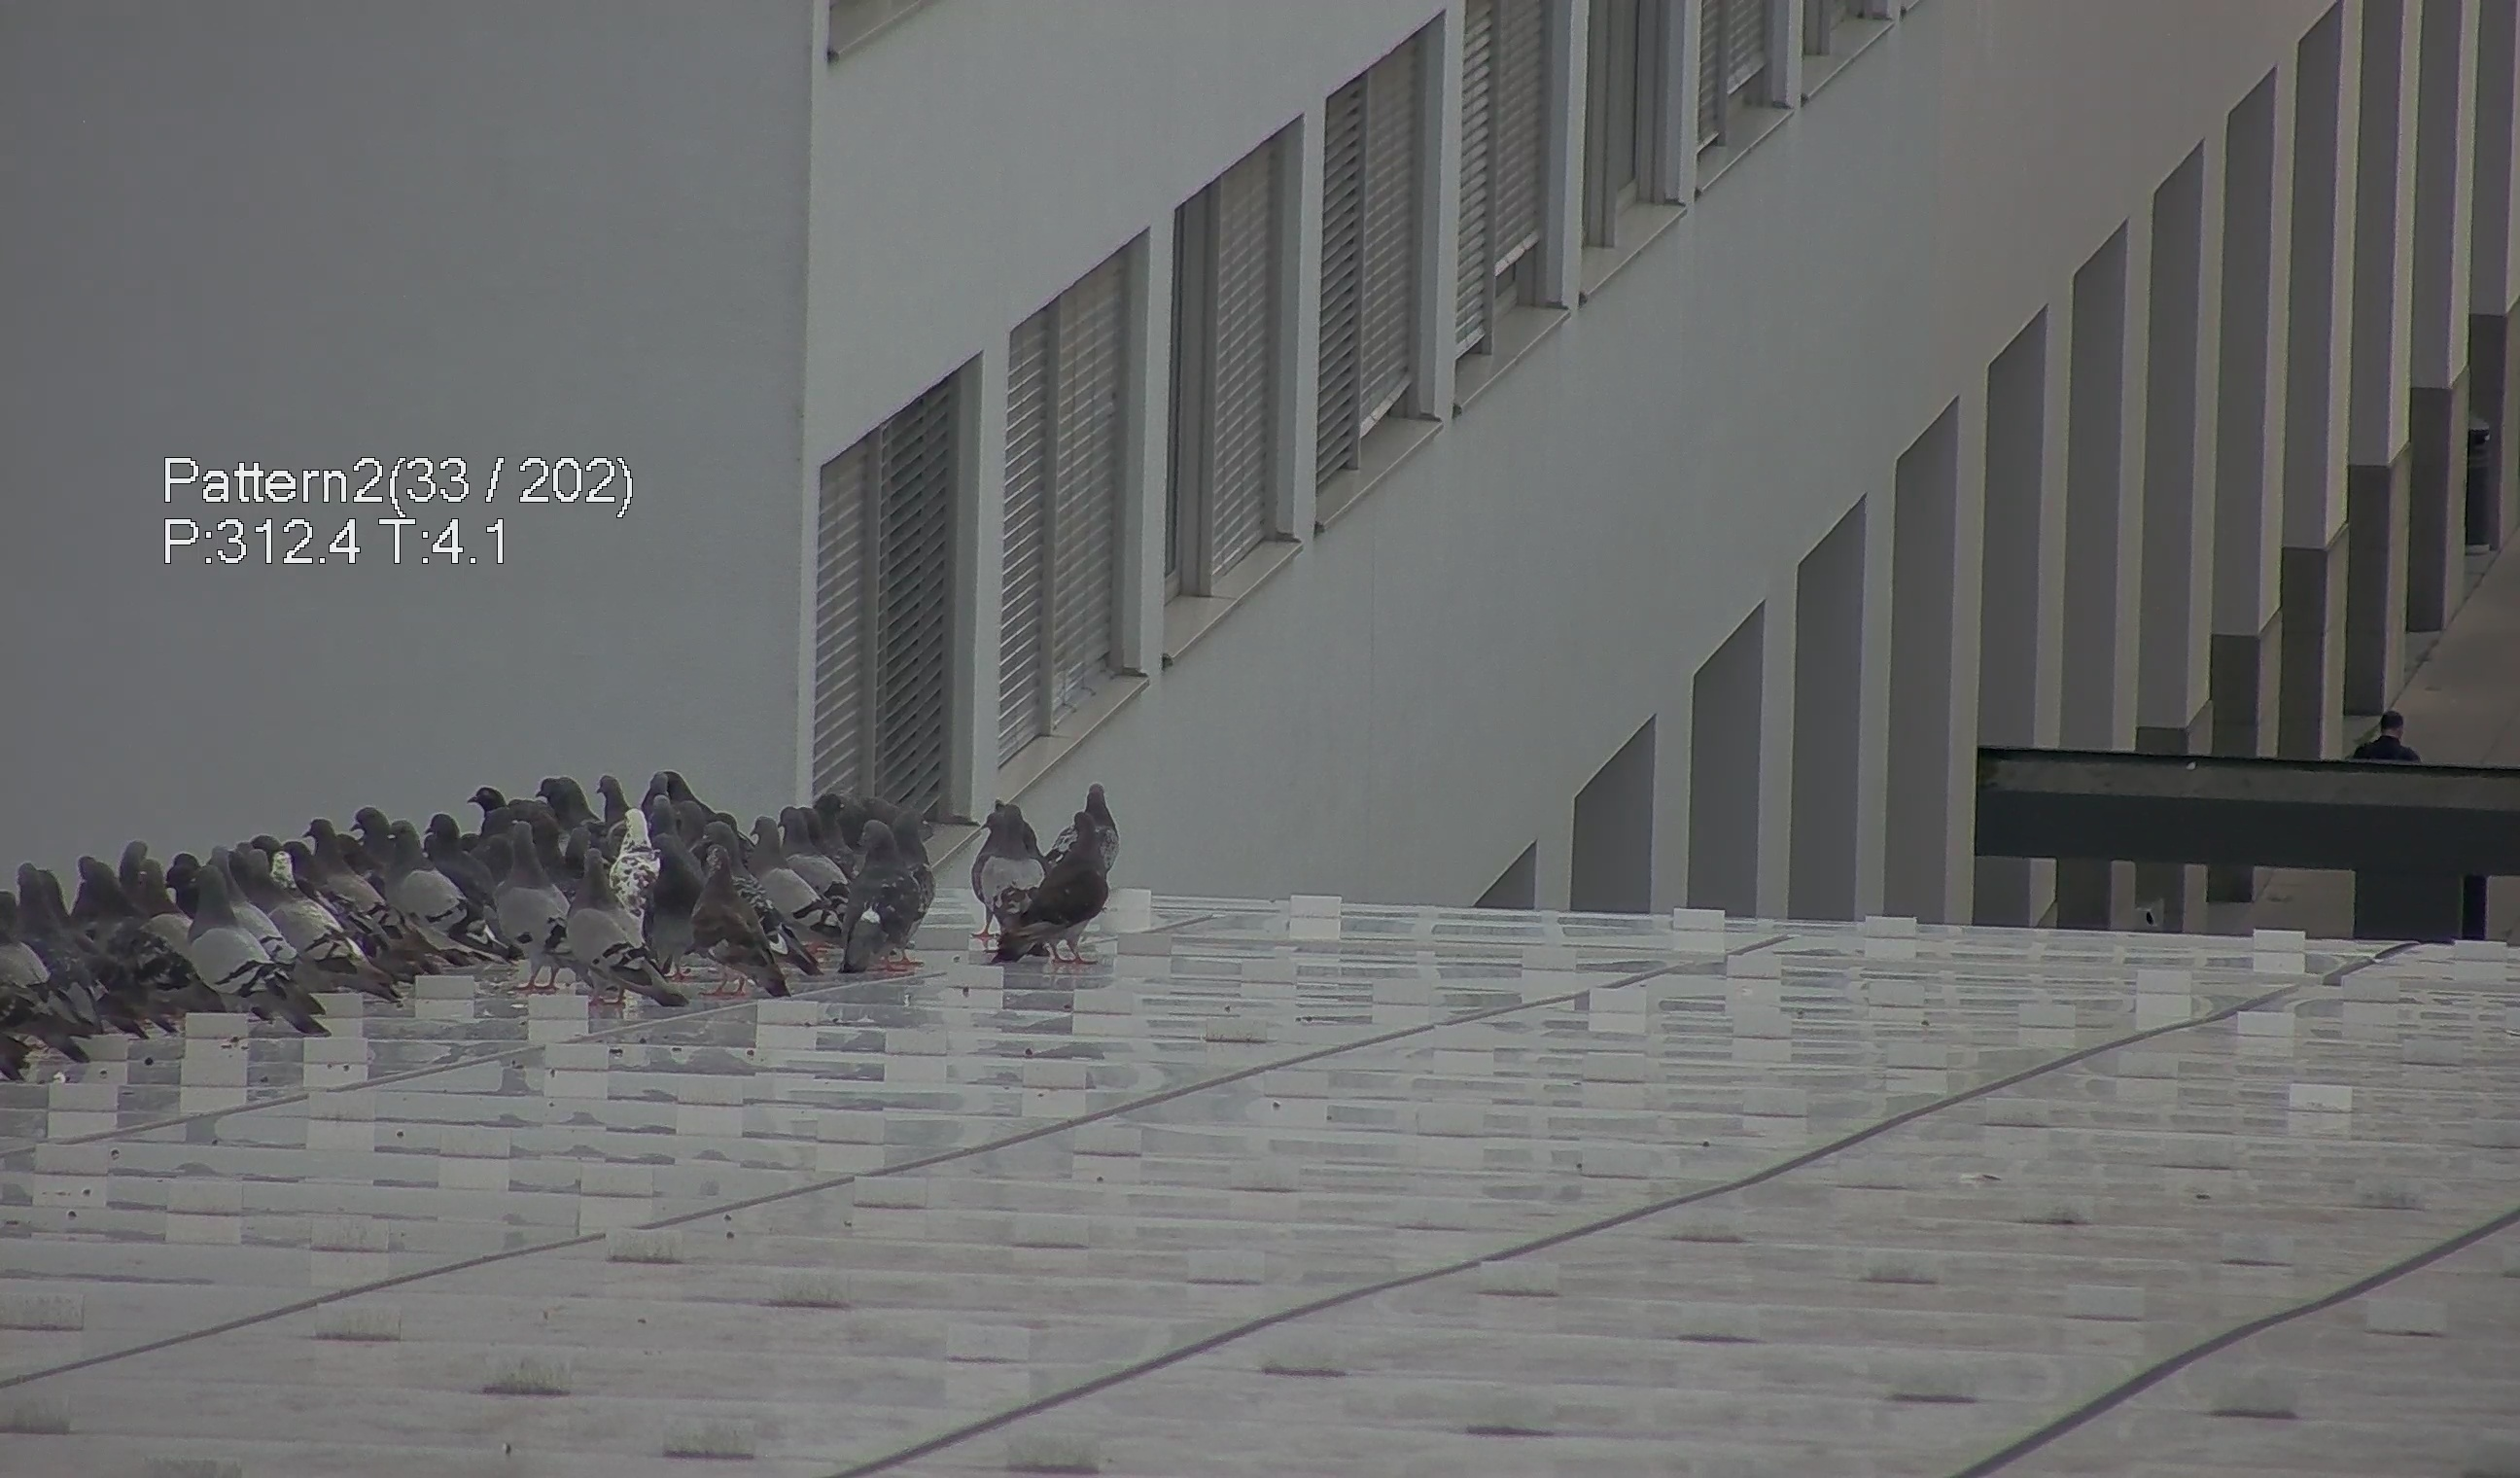Pigeon: (193, 869, 341, 1052), (990, 778, 1124, 952), (556, 841, 684, 1008), (183, 862, 302, 1040), (234, 860, 390, 996), (76, 862, 213, 1012), (202, 850, 336, 987), (380, 825, 506, 962), (499, 809, 584, 991), (950, 788, 1046, 941), (839, 813, 921, 991), (698, 855, 790, 1003), (740, 815, 834, 950), (2, 934, 100, 1045), (770, 797, 853, 908), (601, 799, 675, 908), (1082, 772, 1143, 883), (890, 804, 941, 924), (104, 829, 164, 896), (455, 767, 522, 823), (288, 813, 346, 869), (353, 802, 394, 862), (528, 764, 580, 808), (589, 769, 631, 816)
